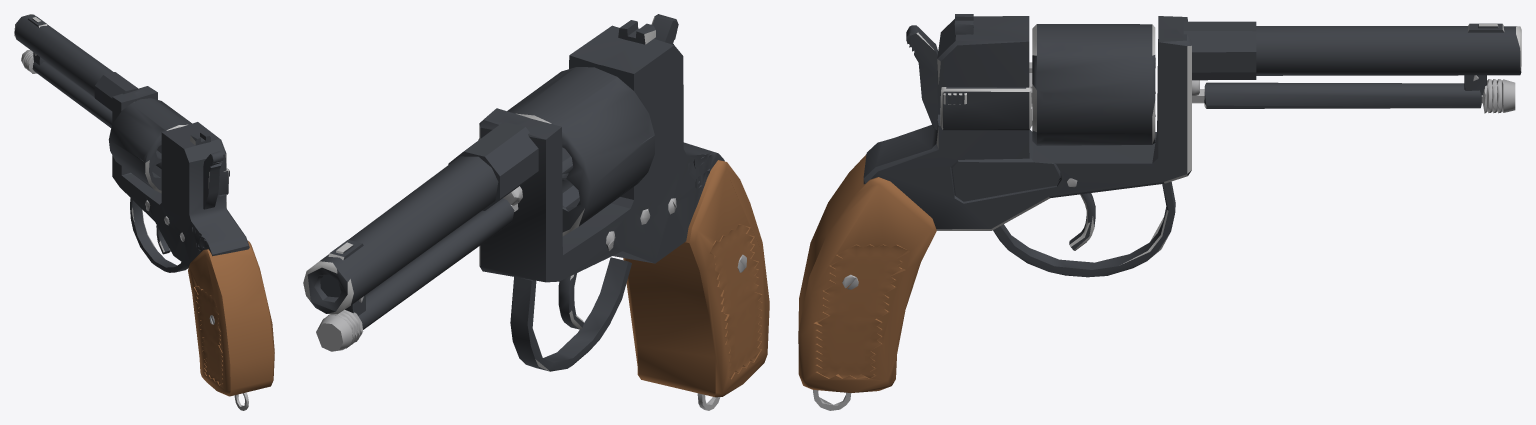
File: nagant_lod1.glb
3 renders of one model, left to right at view 1: azimuth 30°, elevation 25°; view 2: azimuth 150°, elevation 25°; view 3: azimuth 270°, elevation 25°, orthographic. The views are drawn at different scales.
Visible parts, largest first — view 1: Blued, Wood, Steel, Worn; view 2: Blued, Wood, Steel, Worn; view 3: Blued, Wood, Worn, Steel.
Part boxes in pixels (x1,y1,x2,y2): Blued: (14, 14, 249, 272); Wood: (188, 241, 274, 396); Steel: (21, 50, 248, 410); Worn: (14, 14, 229, 252); Blued: (307, 14, 724, 371); Wood: (623, 160, 769, 397); Steel: (316, 186, 746, 410); Worn: (303, 16, 655, 371); Blued: (863, 14, 1521, 277); Wood: (798, 154, 936, 392); Worn: (916, 24, 1521, 264); Steel: (813, 62, 1515, 410).
Bounding box in the file's own units: 0.0398 × 0.1403 × 0.235.
